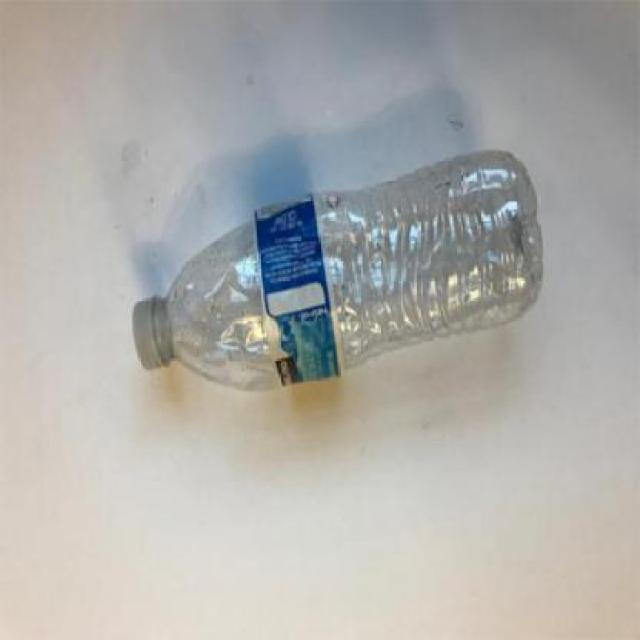Plastic: (132, 145, 544, 392)
